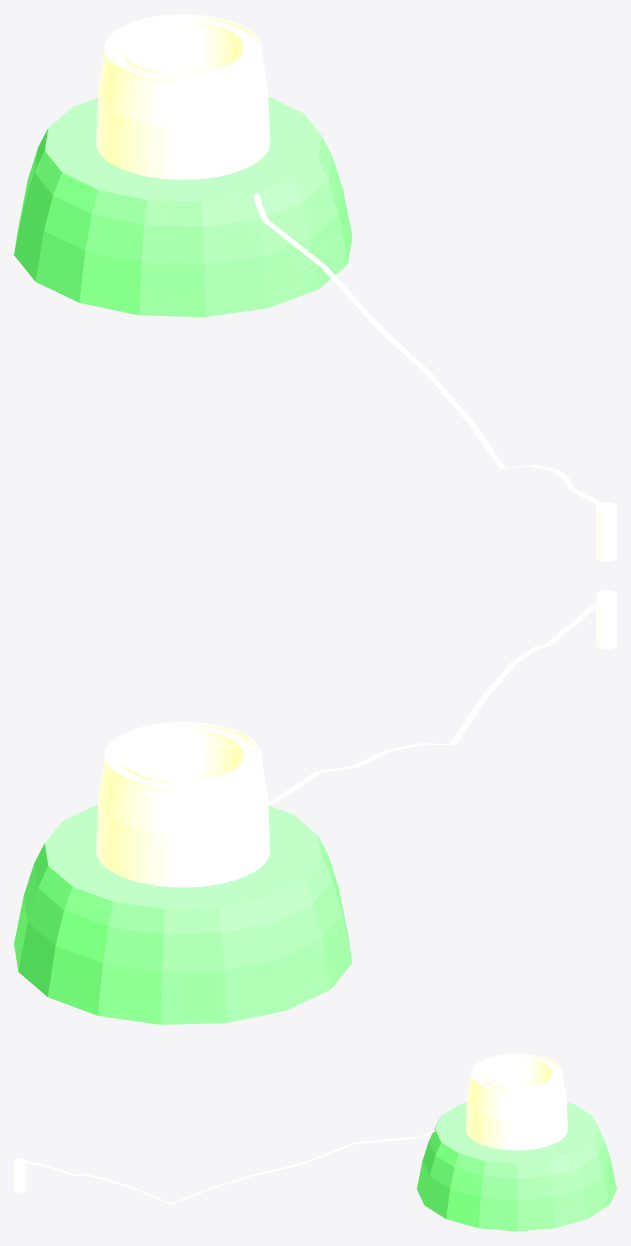
File: castle_low_tide_boss_battle.gltf
The picture shows the model from 3 angles, top to bottom: view 1: azimuth 30°, elevation 25°; view 2: azimuth 150°, elevation 25°; view 3: azimuth 270°, elevation 25°; orthographic projection. The views are drawn at different scales.
Parts seen in each view (by area): view 1: land, castle, stairs, Circle, start; view 2: land, castle, stairs, Circle, start; view 3: land, castle, stairs, Circle, start.
Boxes of the visible parts, bbox=[...] form: land: bbox=[14, 96, 352, 317]; castle: bbox=[96, 14, 270, 179]; stairs: bbox=[253, 193, 600, 504]; Circle: bbox=[106, 17, 259, 79]; start: bbox=[596, 502, 616, 561]; land: bbox=[14, 804, 352, 1024]; castle: bbox=[96, 722, 270, 887]; stairs: bbox=[268, 598, 604, 805]; Circle: bbox=[106, 725, 259, 787]; start: bbox=[596, 590, 616, 649]; land: bbox=[417, 1102, 616, 1231]; castle: bbox=[465, 1053, 567, 1150]; stairs: bbox=[26, 1130, 434, 1204]; Circle: bbox=[472, 1055, 561, 1091]; start: bbox=[14, 1158, 26, 1192].
Size of the model in its own units: 97.8 by 66.87 by 295.
